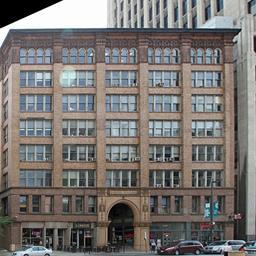building: (13, 25, 239, 249)
